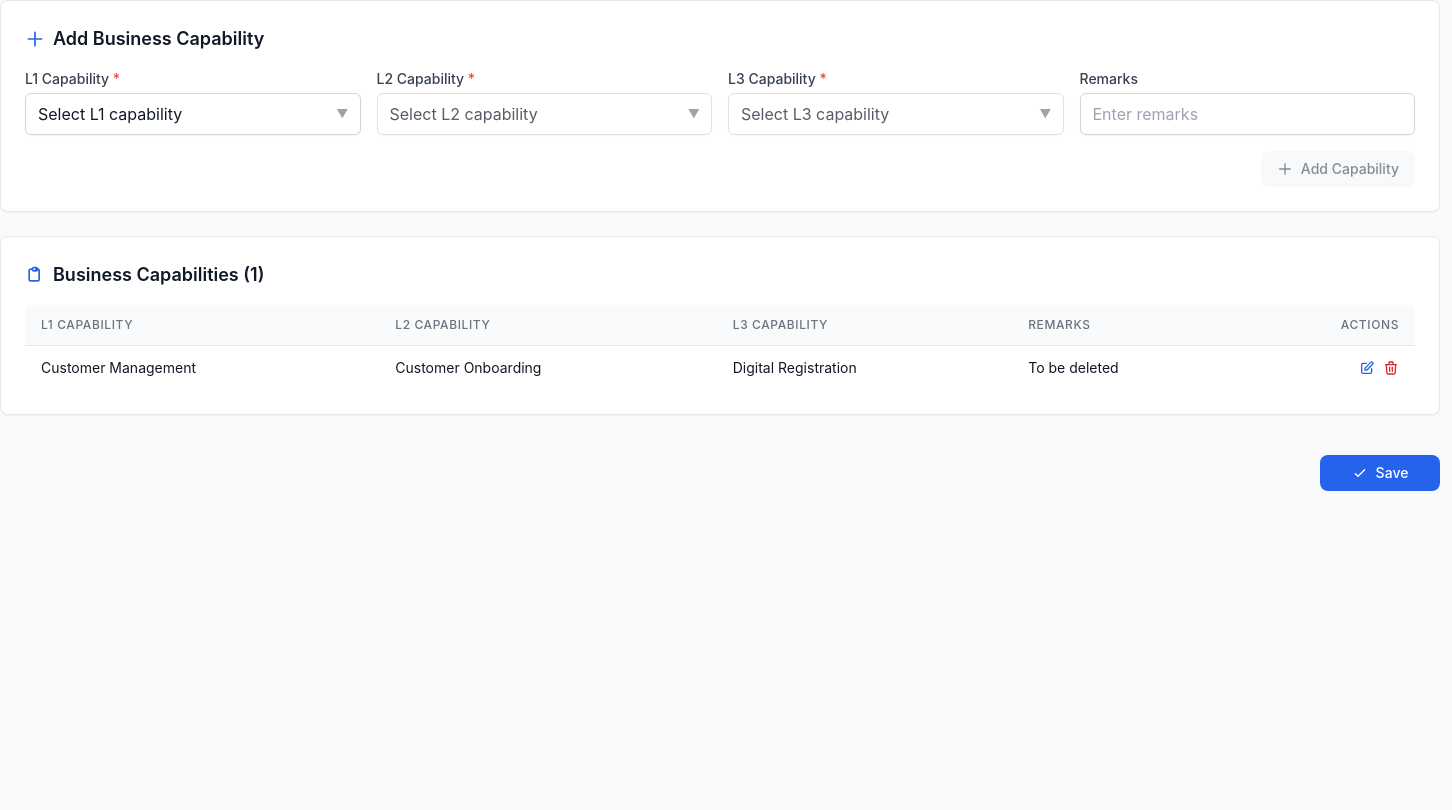
Test: BusinessCapabilitiesStep › Delete Capability Functionality › removes capability when delete button clicked
The width and height of the screenshot is (1452, 810).
Click the button titled "Delete".
click(1391, 368)  # box [1383,360,1399,376]
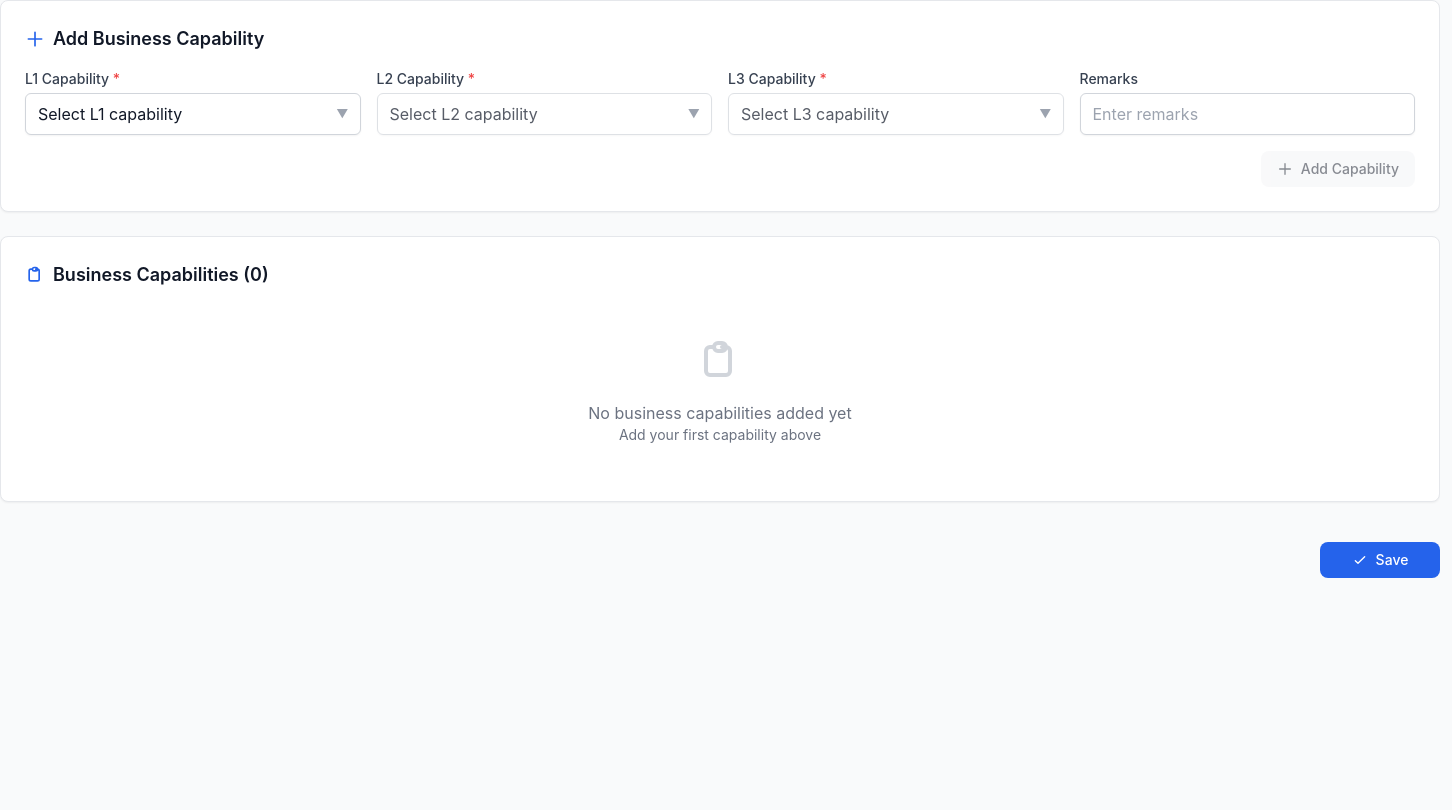
Now the text "To be deleted" is gone
Now the text "No business capabilities added yet" is shown, box [588,403,852,423]
